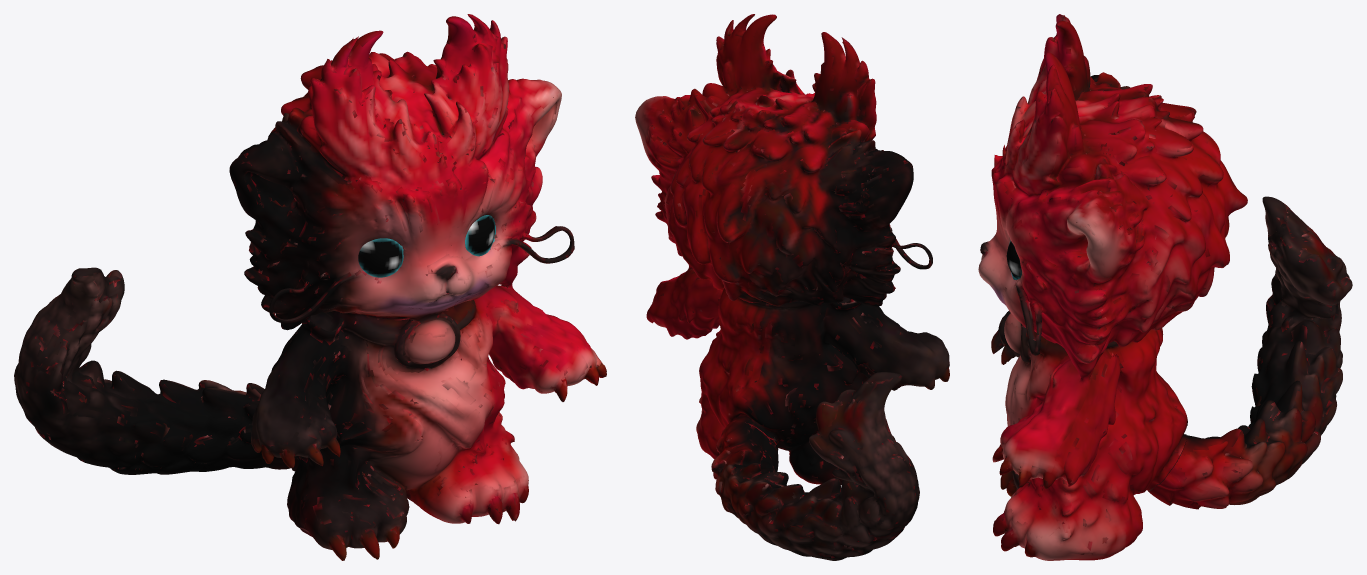
The model's file is Mascot-Red_ForAR_compressed.glb.
3 renders of one model, left to right at view 1: azimuth 30°, elevation 25°; view 2: azimuth 150°, elevation 25°; view 3: azimuth 270°, elevation 25°, orthographic. The views are drawn at different scales.
Visible parts, largest first — view 1: Red; view 2: Red; view 3: Red.
Boxes of the visible parts, x1,y1,x2,y2 form: Red: (14, 14, 606, 560); Red: (635, 14, 949, 560); Red: (978, 14, 1352, 560).
Size of the model in its own units: 1.33 by 1.46 by 1.02.
Materials: 1 (1 with a texture image).
